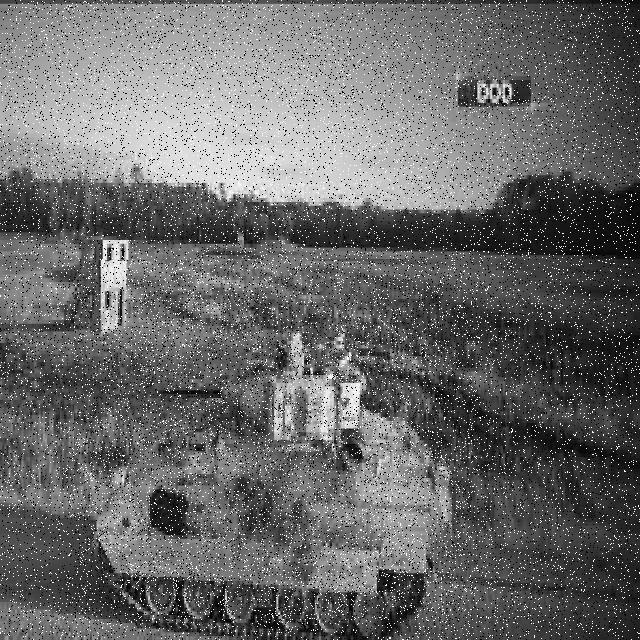MIL_MBT: (75, 261, 482, 625)
